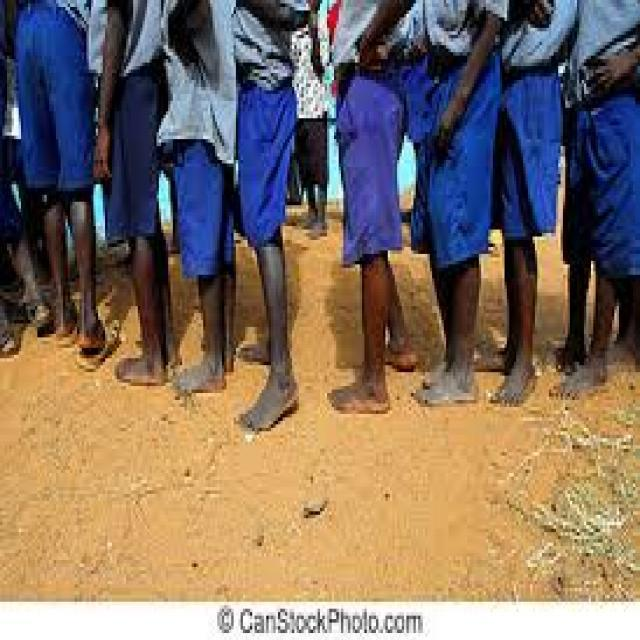No_Shoe: (232, 358, 304, 434), (413, 360, 485, 416), (549, 356, 617, 402), (328, 372, 396, 417), (489, 354, 542, 409), (171, 354, 228, 396), (114, 348, 168, 386)
